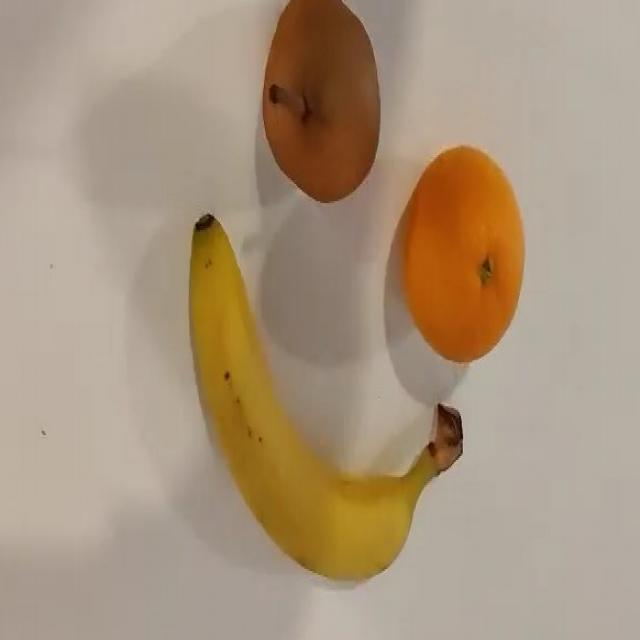Apple: (260, 0, 381, 203)
Banana: (187, 211, 463, 583)
Orange: (402, 143, 525, 363)
